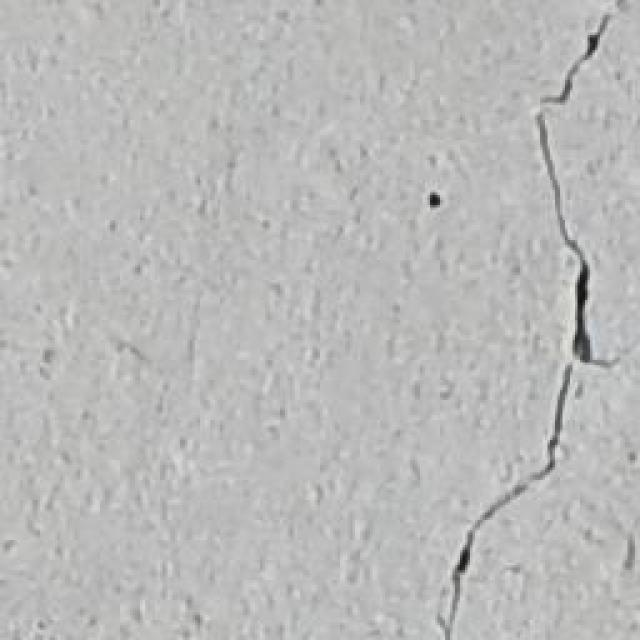concrete-crack: (445, 5, 633, 640)
